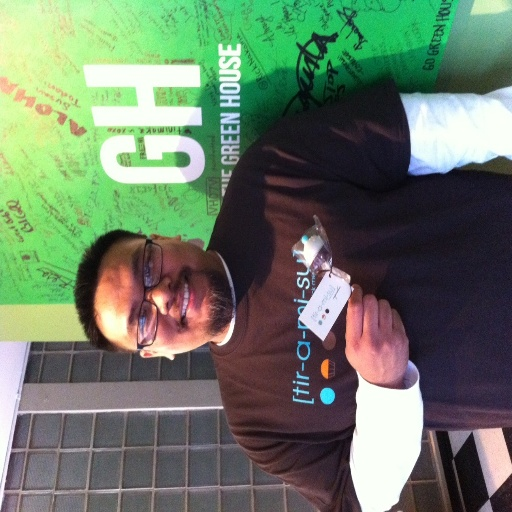hand: (336, 284, 403, 392)
